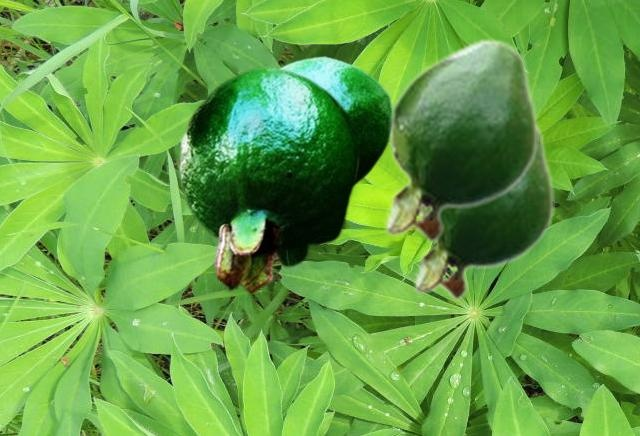guava: (178, 65, 360, 294), (384, 37, 537, 244), (413, 120, 553, 301), (278, 55, 392, 184)
